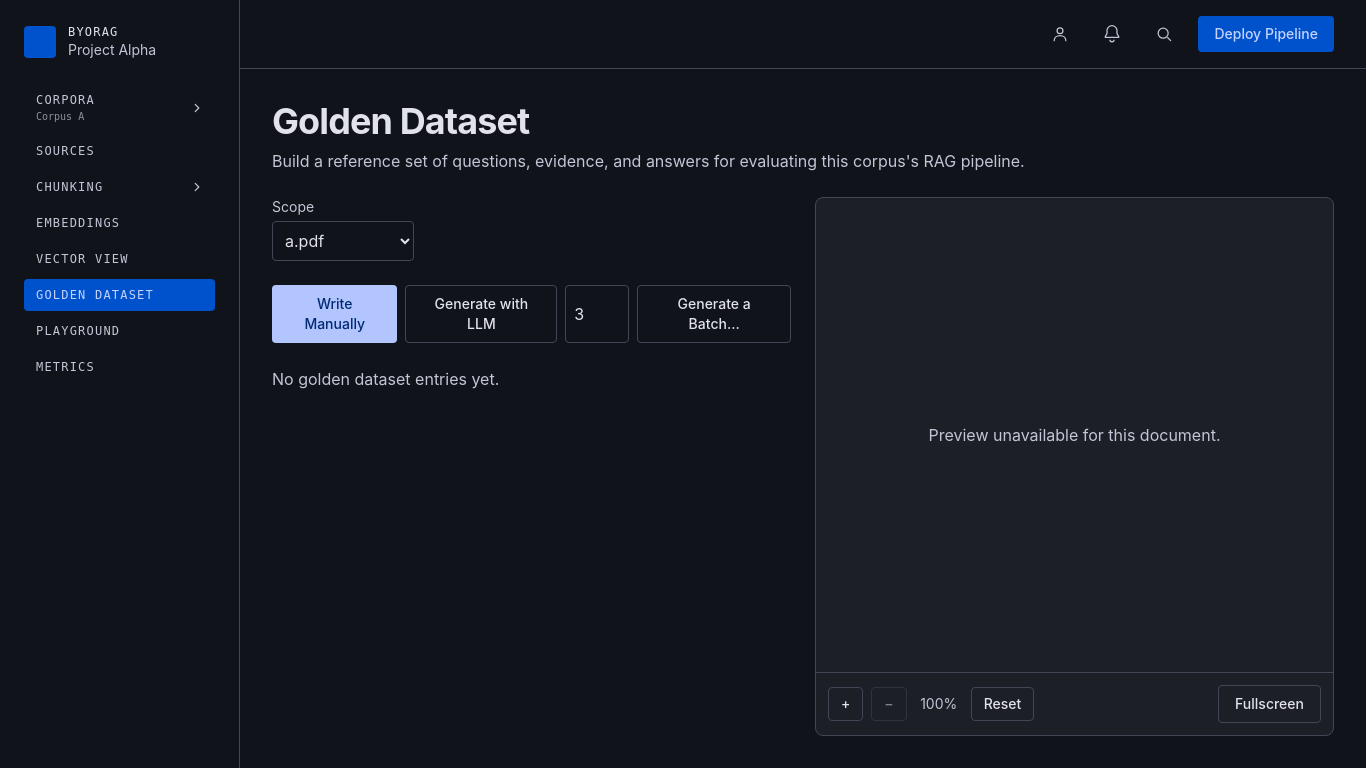
Test: GoldenDatasetScreen — split-pane PDF preview (028-golden-dataset-split-view US1) › shows a neutral empty state in the right pane when scope is "Entire Corpus"
Expected: the element with test id "golden-dataset-right-pane" is shown, [815,197,1334,736]
Select "Entire Corpus" in the dropdown labelled "Scope" at [343, 241], box [272,221,414,261]
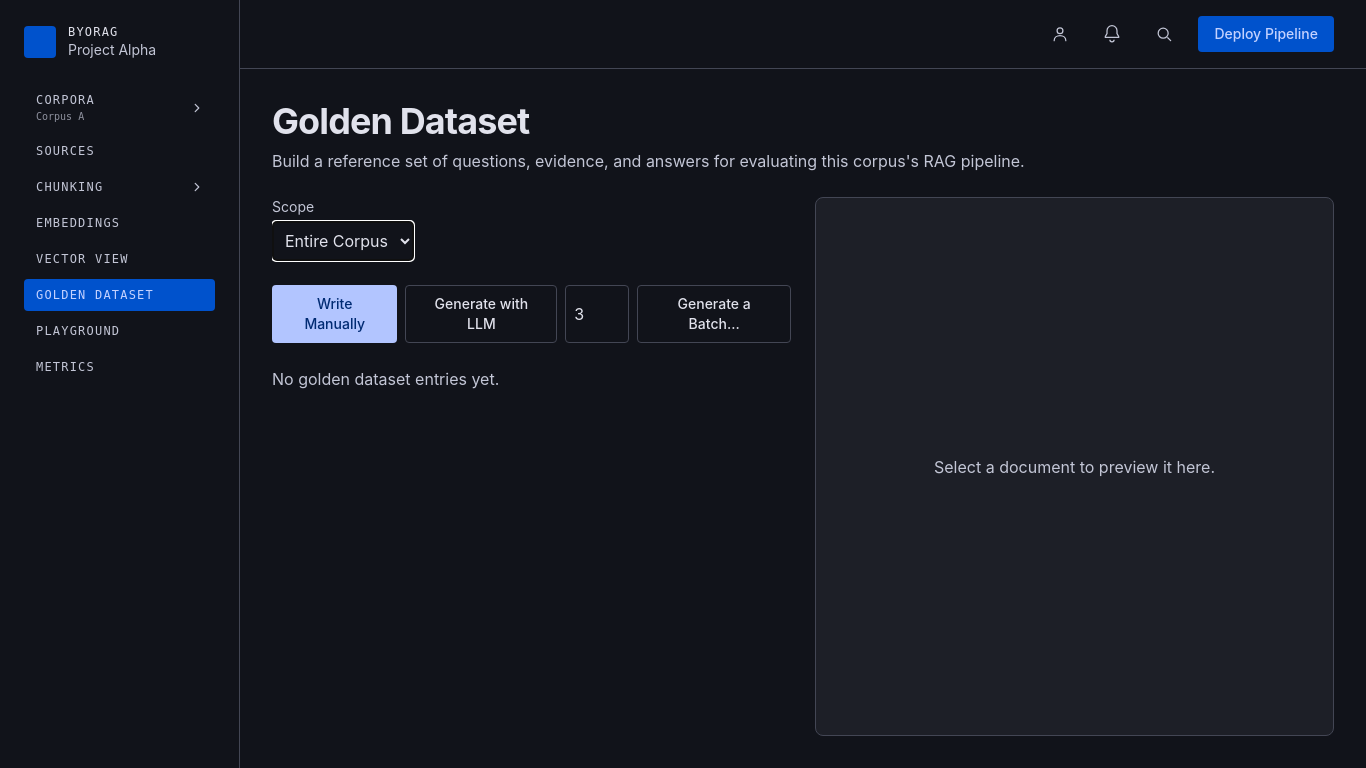
Expected: the text "Select a document to preview it here." is shown, [934,456,1215,476]
